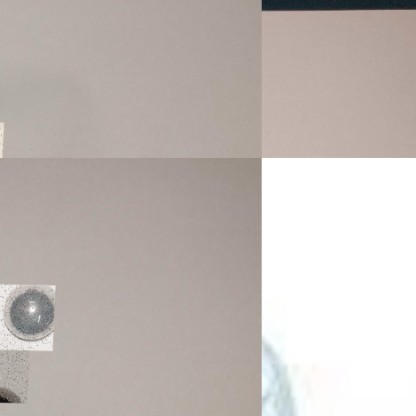ironball: (0, 283, 57, 350), (0, 336, 31, 402), (0, 121, 6, 157)
